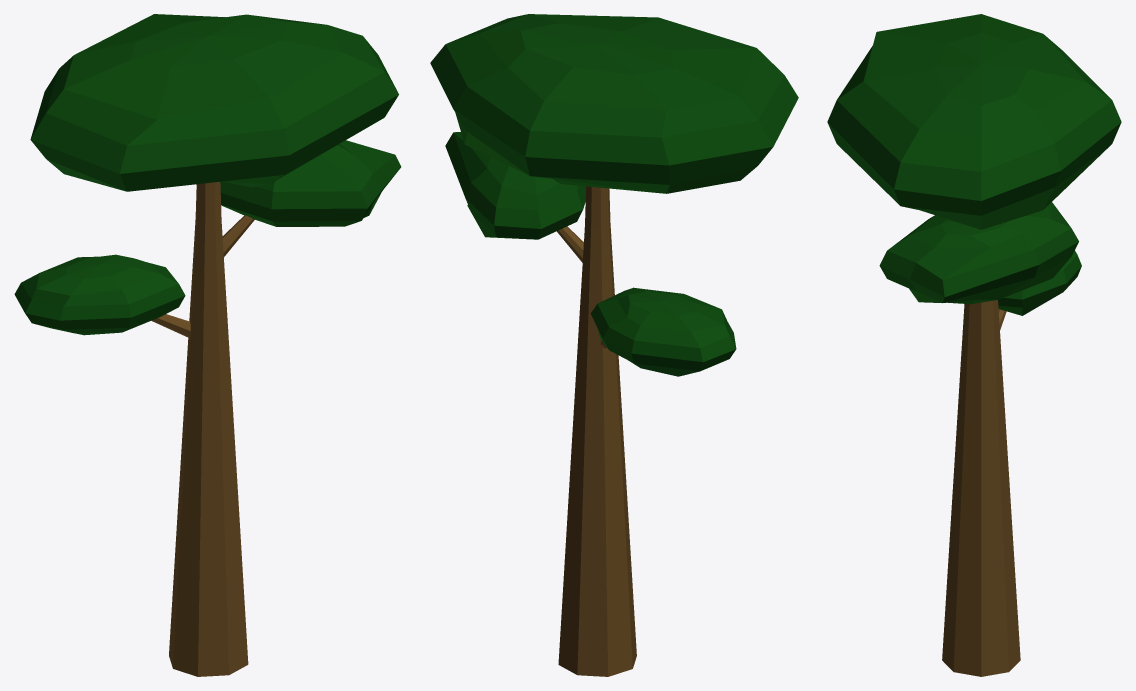
The model's file is asset_Tree_01.fbx.
3 renders of one model, left to right at view 1: azimuth 30°, elevation 25°; view 2: azimuth 150°, elevation 25°; view 3: azimuth 270°, elevation 25°, orthographic. The views are drawn at different scales.
Visible parts, largest first — view 1: Tree01; view 2: Tree01; view 3: Tree01.
Boxes of the visible parts, <box> form: Tree01: <box>14,14,401,676</box>; Tree01: <box>430,14,798,676</box>; Tree01: <box>827,14,1121,676</box>.
Bounding box in the file's own units: 213 × 362 × 162.
